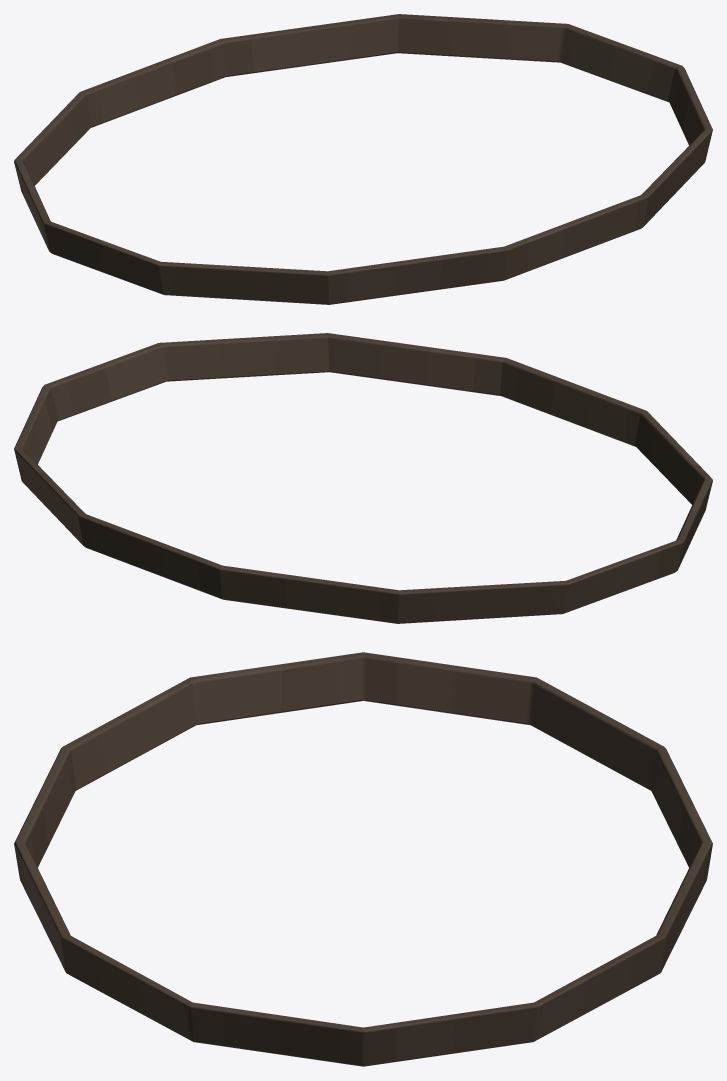
File: Lower-hoop.glb
The picture shows the model from 3 angles, top to bottom: view 1: azimuth 30°, elevation 25°; view 2: azimuth 150°, elevation 25°; view 3: azimuth 270°, elevation 25°; orthographic projection. The views are drawn at different scales.
Visible parts, largest first — view 1: Lower-hoop; view 2: Lower-hoop; view 3: Lower-hoop.
Part boxes in pixels (x1,y1,x2,y2): Lower-hoop: [14, 14, 712, 304]; Lower-hoop: [14, 333, 712, 623]; Lower-hoop: [14, 652, 712, 1066].
Bounding box in the file's own units: 0.604 × 0.031 × 0.4709.
Materials: 1 (1 with a texture image).
